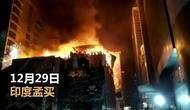fire: (12, 35, 118, 66)
